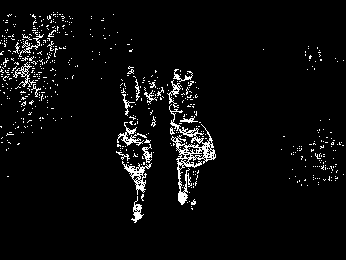person: (115, 118, 156, 225), (172, 108, 212, 208), (117, 62, 141, 114), (146, 65, 164, 112), (187, 67, 203, 107), (172, 66, 183, 107)
